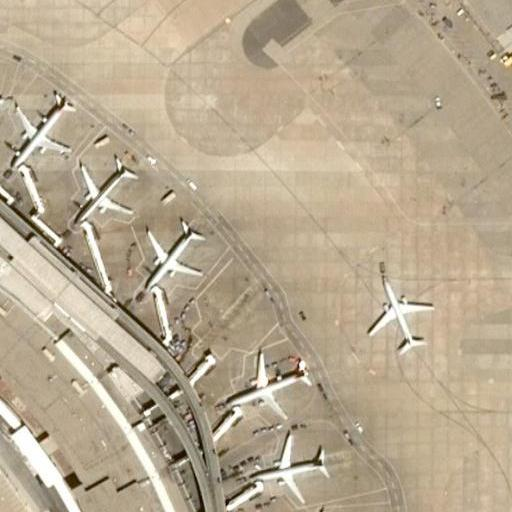Aircraft: (213, 343, 323, 423), (0, 91, 88, 181), (240, 430, 341, 506), (129, 217, 208, 299), (62, 159, 138, 232), (367, 270, 429, 359), (0, 29, 5, 143), (263, 510, 369, 512)
